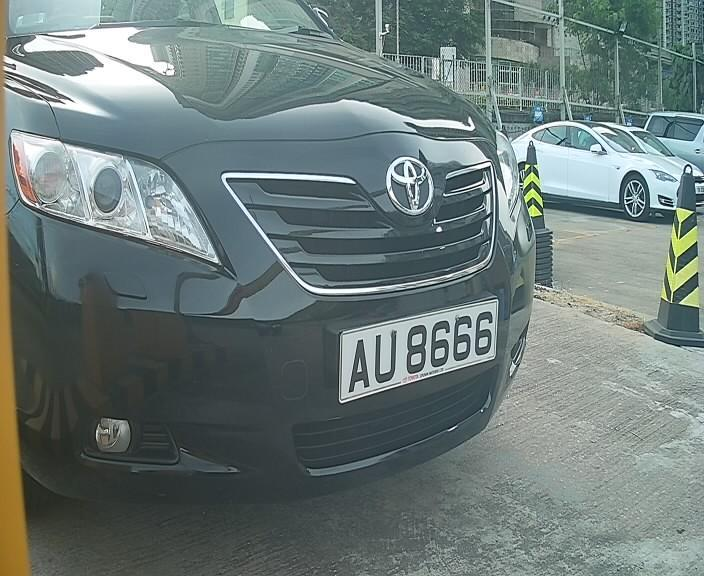privatecar: (4, 34, 554, 481)
